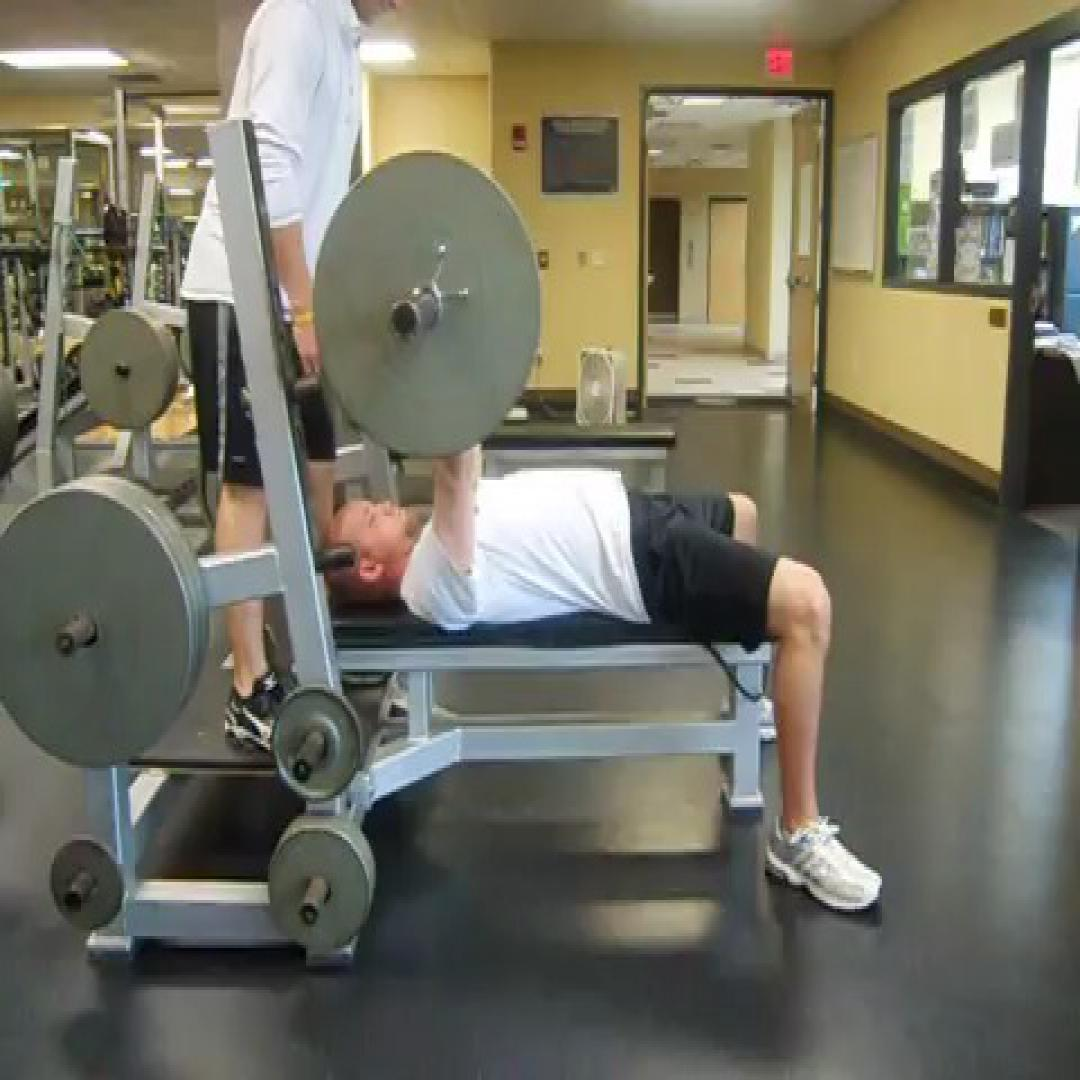Bar: (387, 297, 423, 342)
Barbell: (312, 150, 540, 459)
